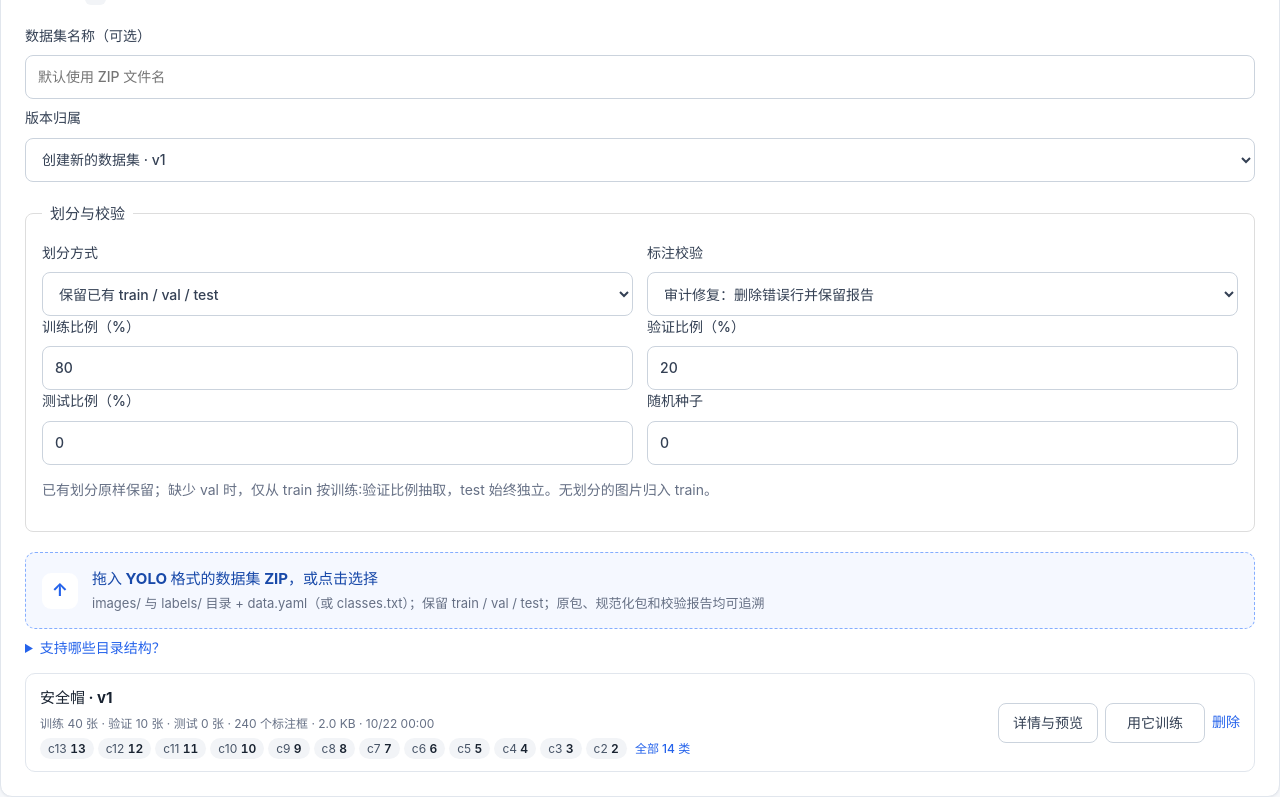
training center › shows the most labelled classes first and expands the rest on request
(page scrolled)
Click the button "全部 14 类". click: (663, 748)
box: [631, 738, 694, 759]
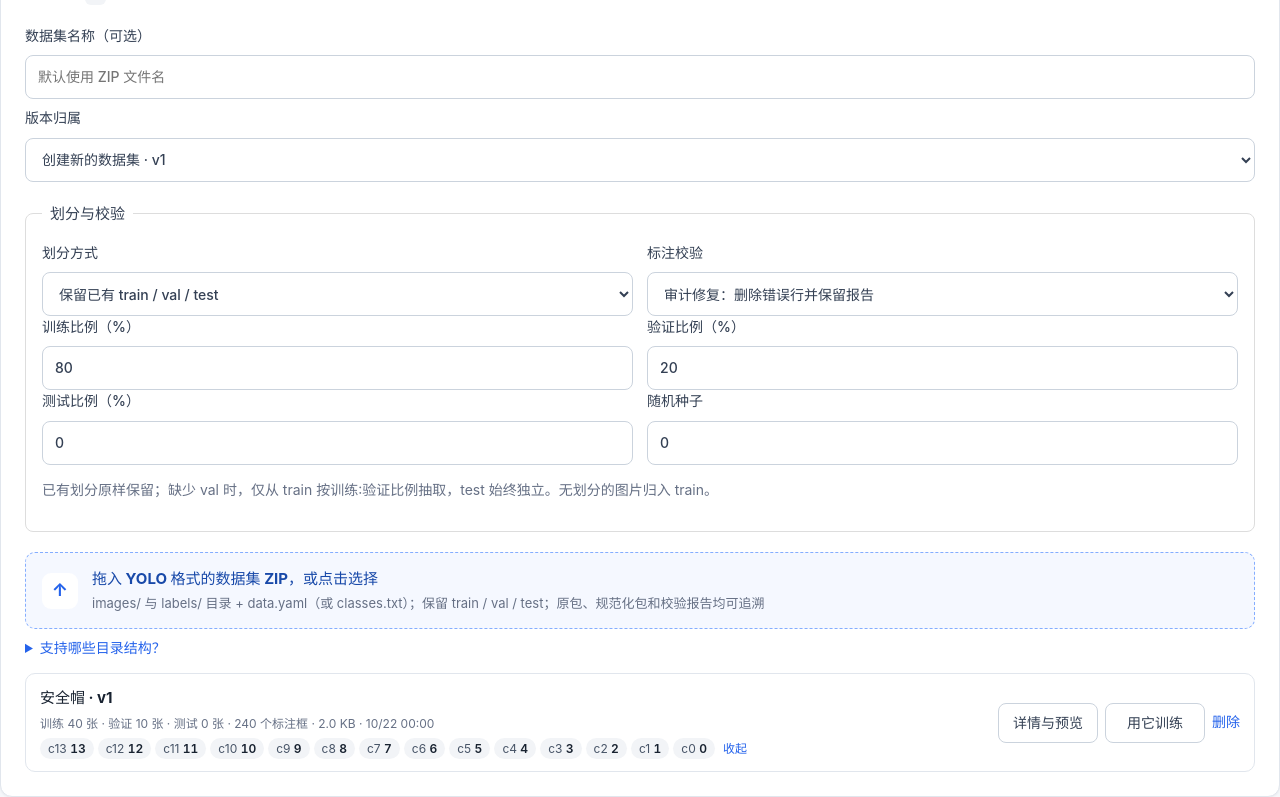
Now the button "收起" is shown, box [719, 738, 751, 759]
